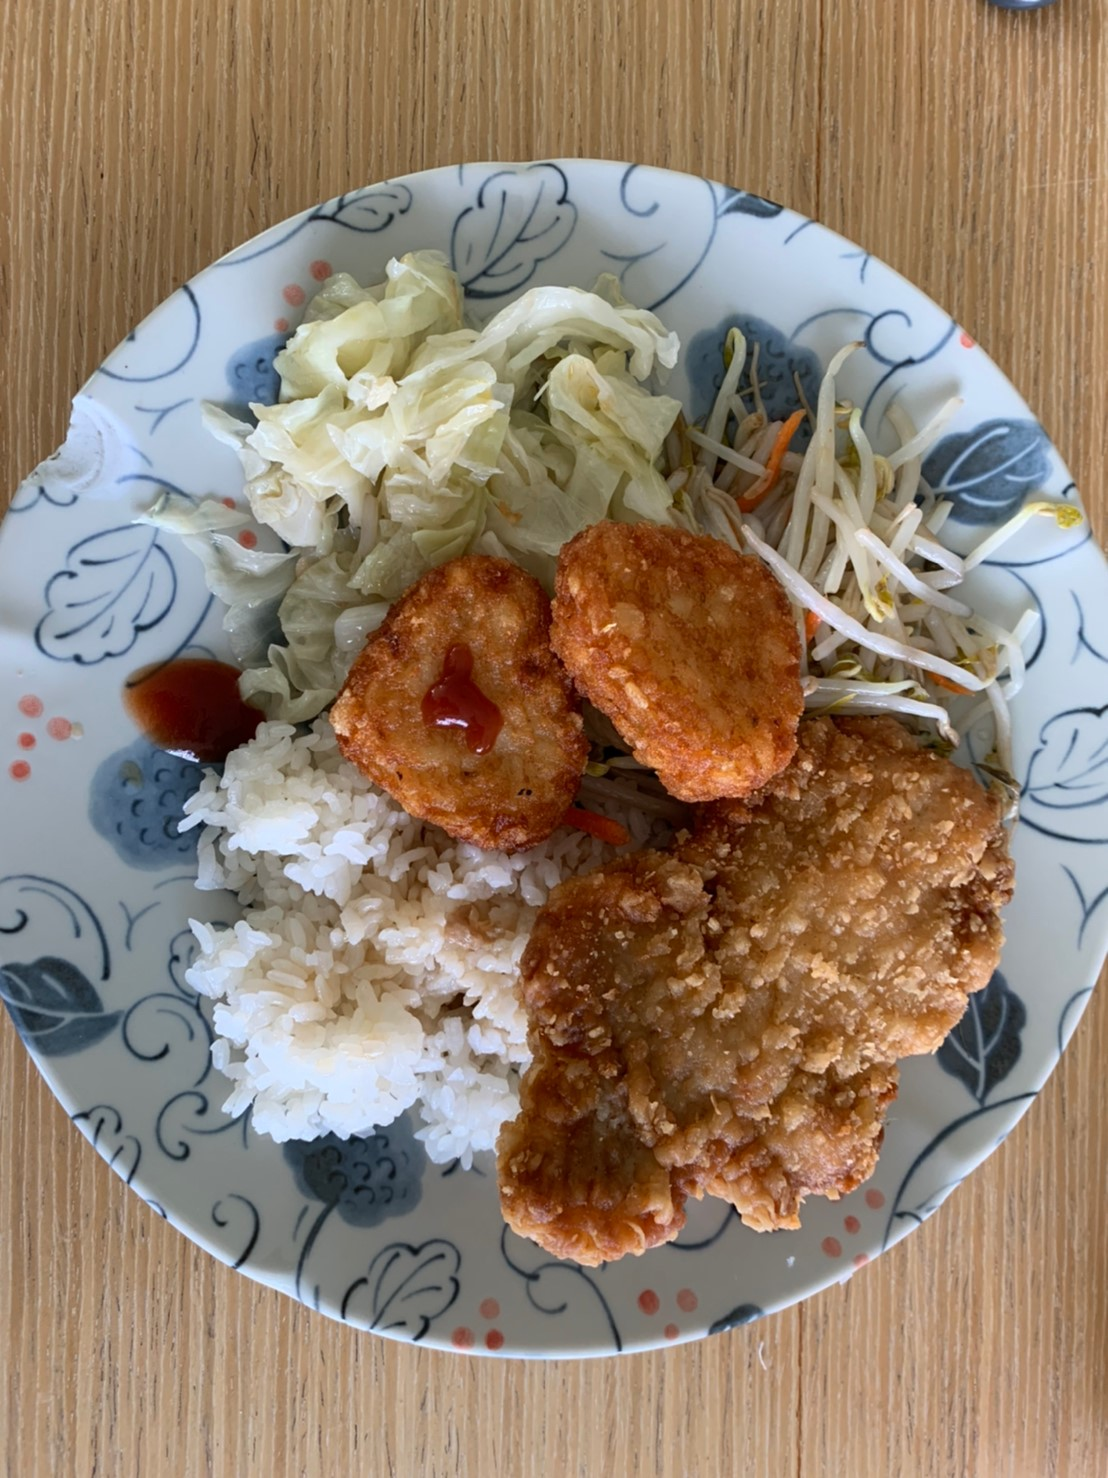chinese_cabbage: (294, 324, 656, 543)
fried_chicken: (546, 782, 976, 1256)
mung_bean_sprouts: (760, 422, 964, 708)
rice: (220, 829, 507, 1141)
triangle_hash_brown: (360, 538, 762, 810)
